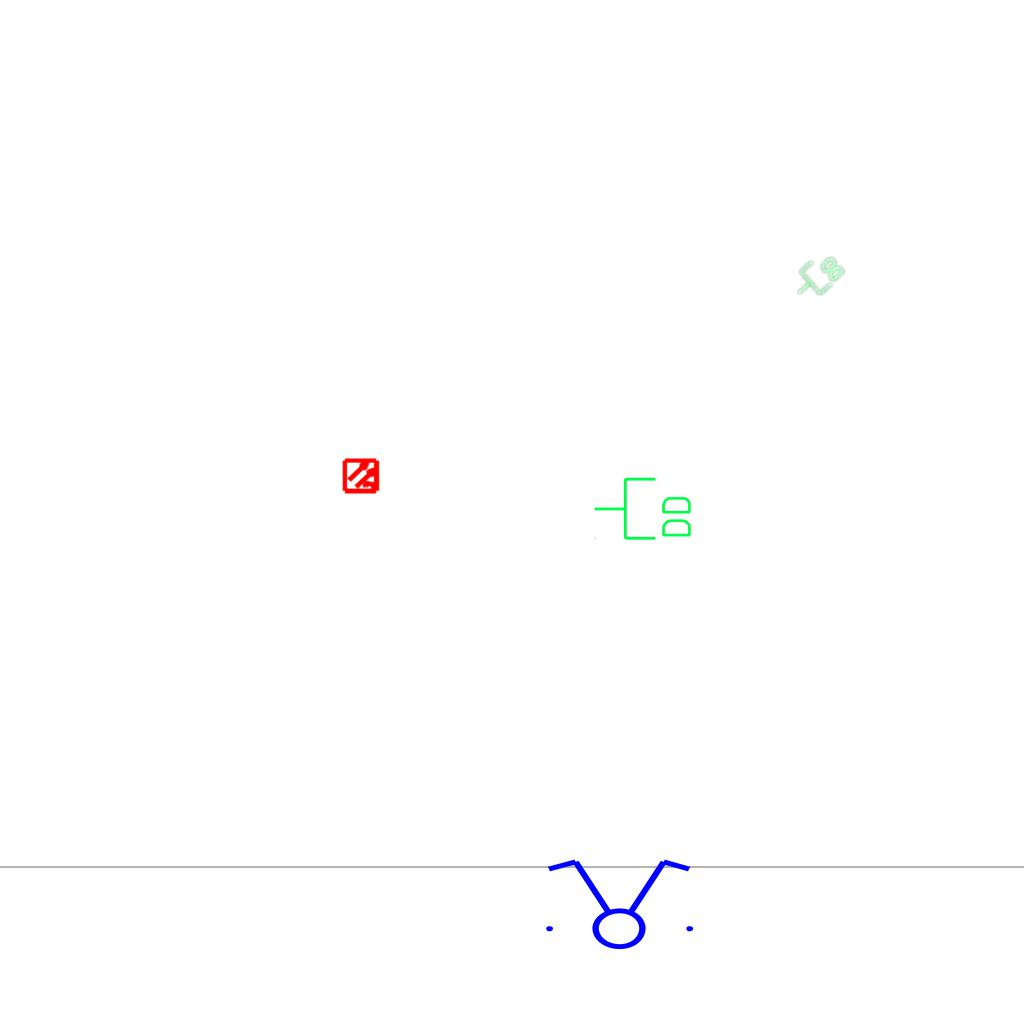Datenanschluss_zweifach: (592, 475, 695, 544), (787, 247, 848, 307)
OT_Multisensormelder_(Kombination_RMO_WMD): (334, 448, 390, 504)
Serienschalter: (534, 855, 702, 951)
